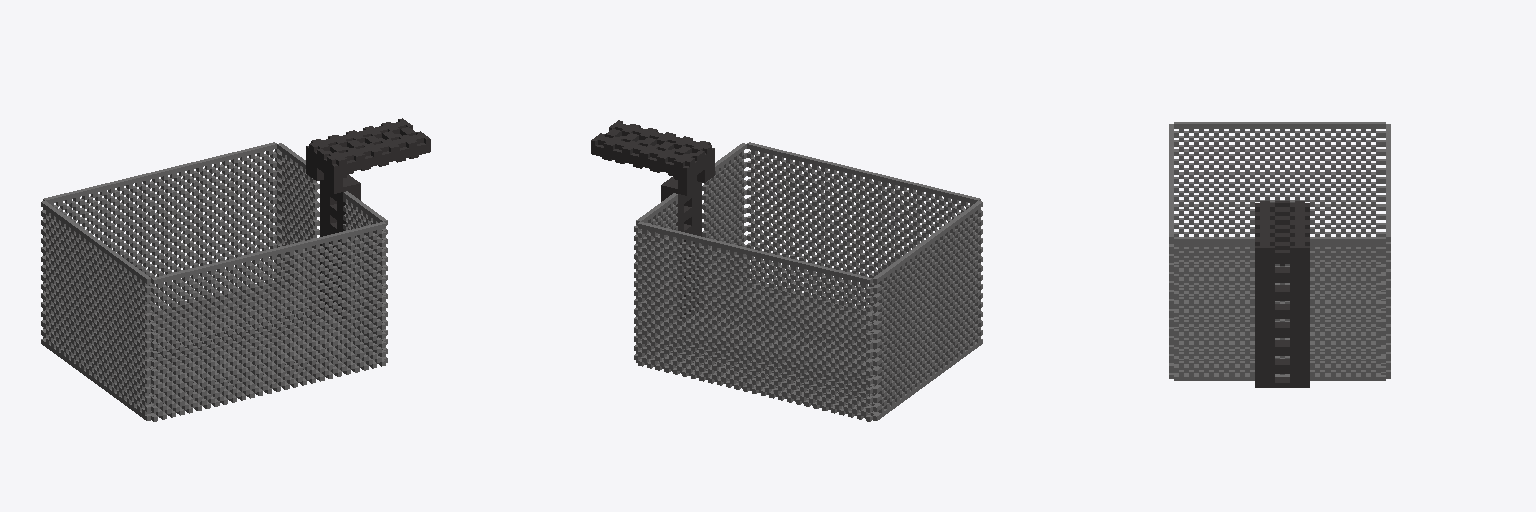
The picture shows the model from 3 angles: view 1: azimuth 30°, elevation 25°; view 2: azimuth 150°, elevation 25°; view 3: azimuth 270°, elevation 25°; orthographic projection.
Visible parts, largest first — view 1: object 1; view 2: object 1; view 3: object 1.
Boxes of the visible parts, <box> form: object 1: <box>41,118,430,421</box>; object 1: <box>591,120,982,421</box>; object 1: <box>1169,122,1390,387</box>.
Size of the model in its own units: 7.4 by 3.8 by 4.4.
1 materials, 1 textured.